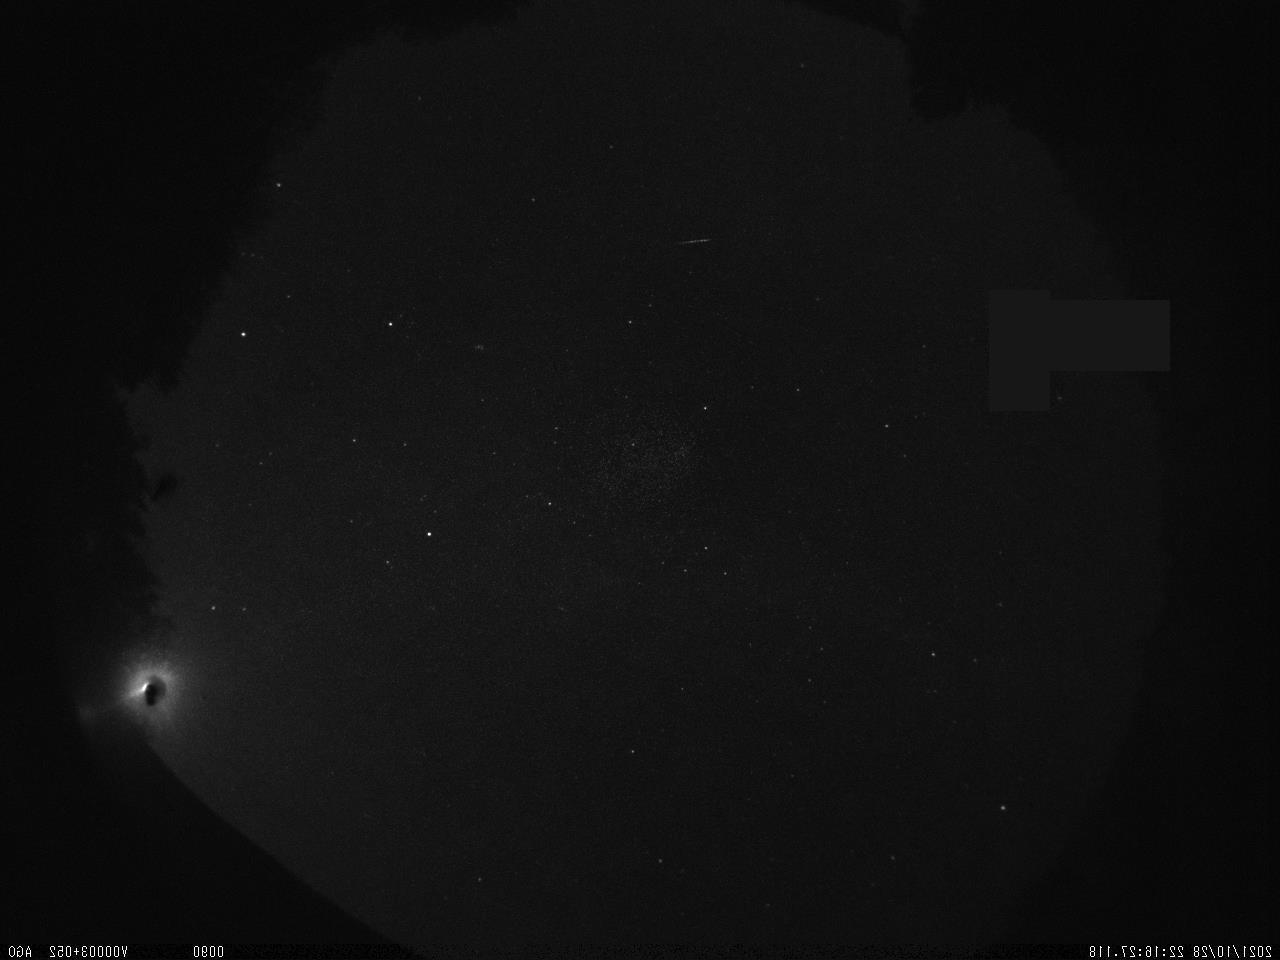meteor: (664, 231, 726, 256)
